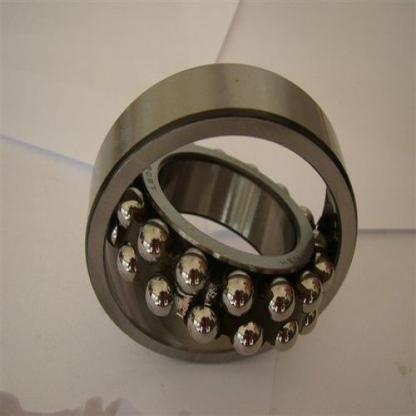FOD: (77, 57, 362, 370)
